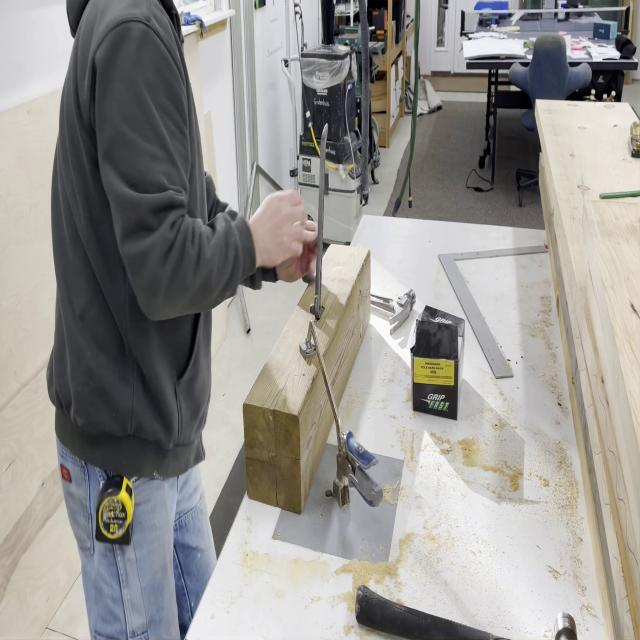hammer: (371, 288, 417, 335)
